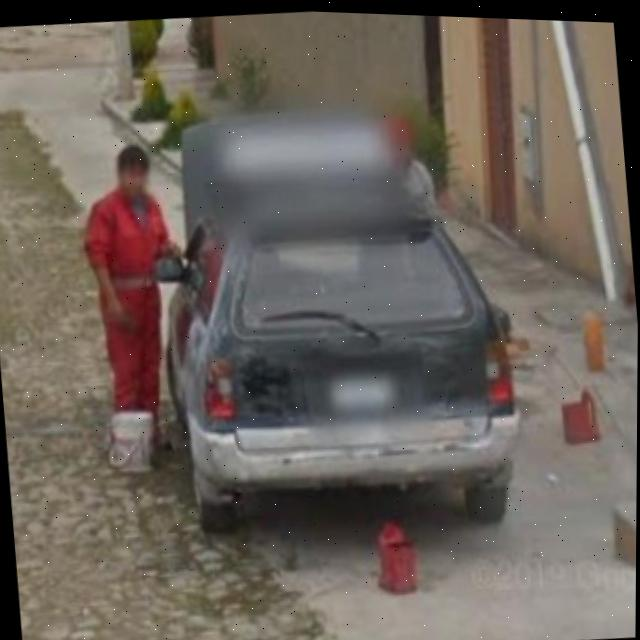vehicle: (162, 123, 520, 513)
